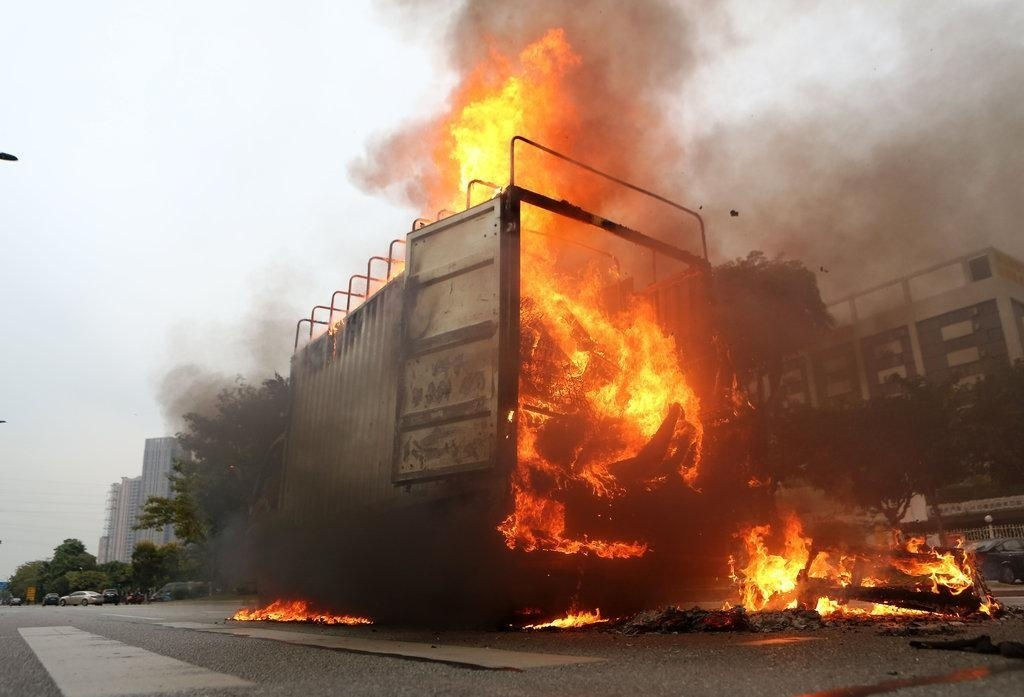fire: (385, 24, 748, 599), (728, 513, 992, 625), (228, 597, 376, 629), (515, 601, 608, 633)
